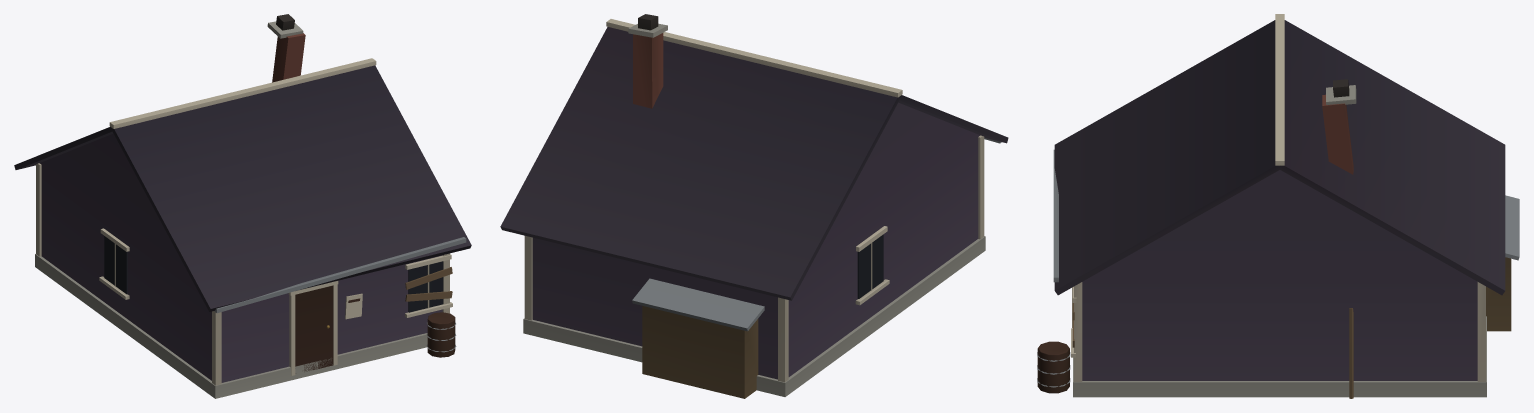
Rendered from shell_derelict_lean.glb.
3 renders of one model, left to right at view 1: azimuth 30°, elevation 25°; view 2: azimuth 150°, elevation 25°; view 3: azimuth 270°, elevation 25°, orthographic. The views are drawn at different scales.
Parts seen in each view (by area): view 1: shell_derelict_lean; view 2: shell_derelict_lean; view 3: shell_derelict_lean.
Boxes of the visible parts, left/top/right/bottom form: shell_derelict_lean: left=14, top=14, right=471, bottom=398; shell_derelict_lean: left=500, top=14, right=1008, bottom=398; shell_derelict_lean: left=1037, top=14, right=1519, bottom=398.
Bounding box in the file's own units: 6.84 × 6.24 × 9.48.
